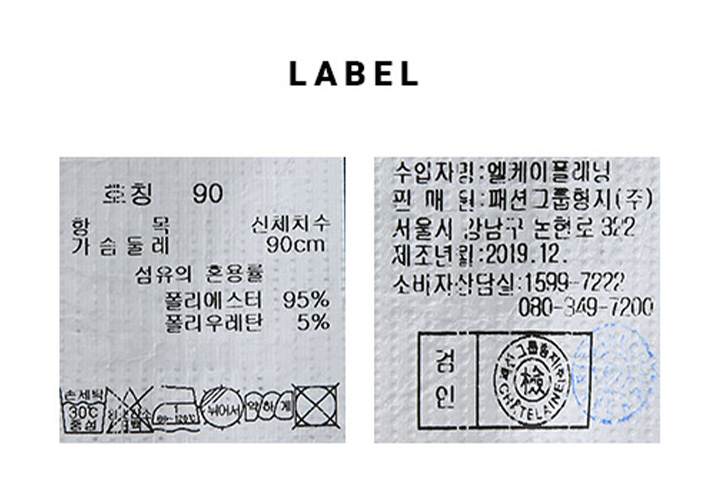KR_flat_dry_in_shade: (198, 384, 243, 428)
KR_gentle_wring: (243, 388, 293, 424)
KR_hand_wash_30_neutral: (59, 380, 106, 440)
KR_iron_low_temp_with_cloth: (152, 382, 201, 436)
KR_no_bleach: (105, 383, 153, 436)
KR_no_tumble_dry: (292, 382, 342, 432)
